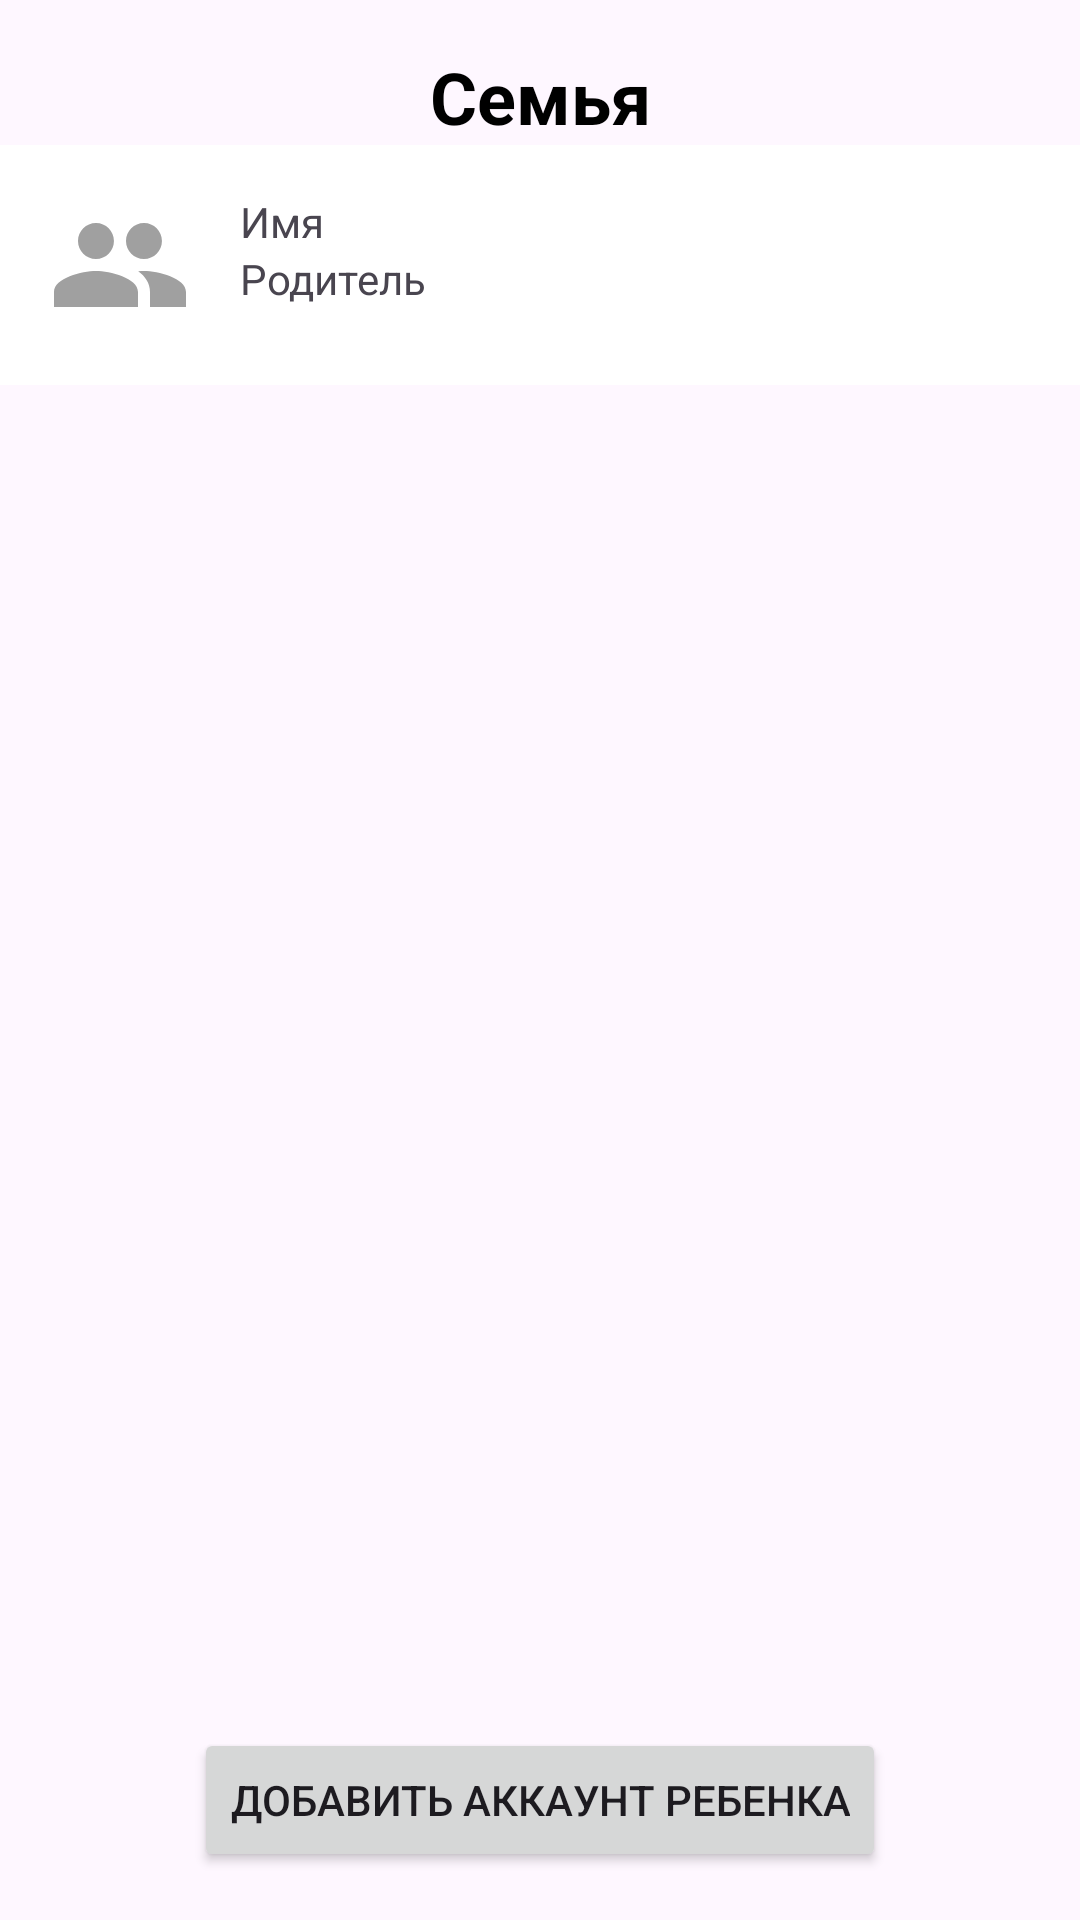

Named icons in this screenshot (1080 × 1920) and their centers, (x,y):
people: (120,265)
